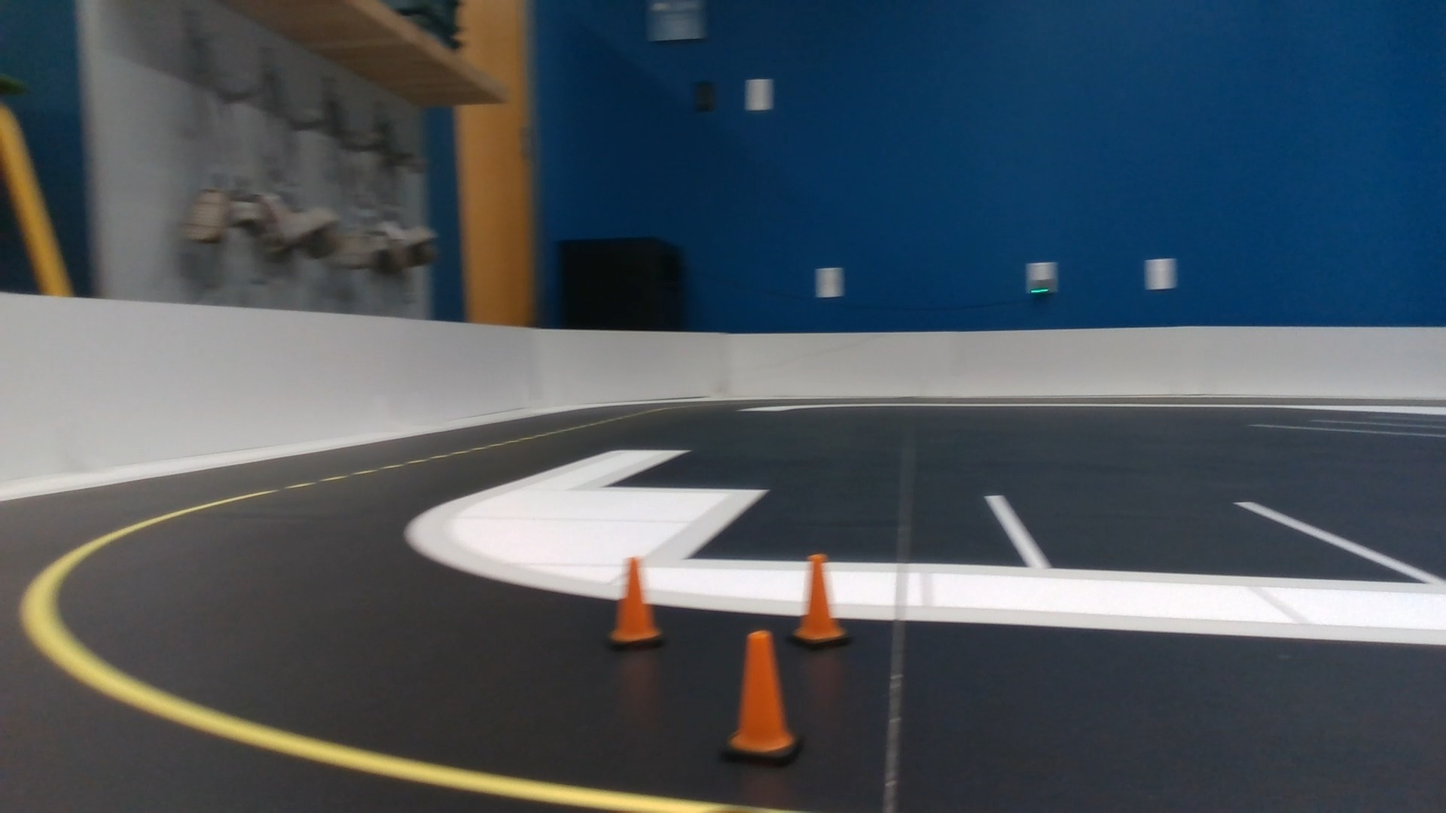Traffic Cone: (723, 631, 801, 765), (790, 554, 850, 647), (609, 557, 664, 648)
